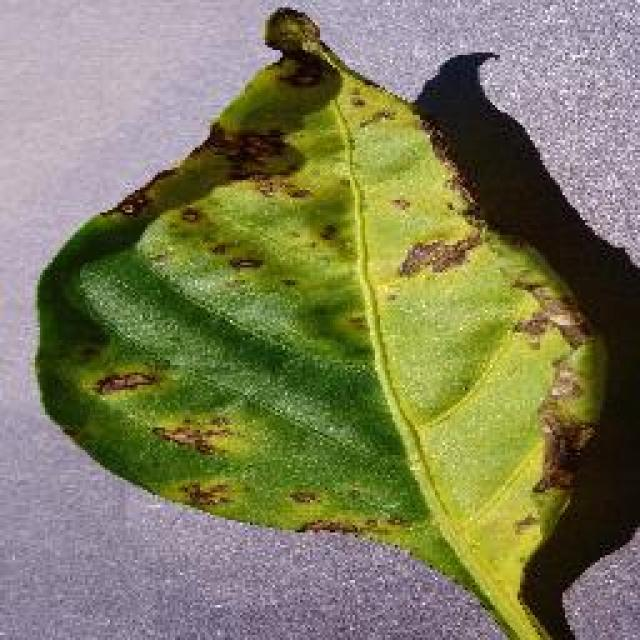Chilli_Bacterial_Spot: (30, 2, 610, 638), (145, 408, 247, 512), (505, 273, 590, 355), (205, 120, 305, 182), (392, 228, 482, 282), (148, 410, 238, 460), (257, 2, 325, 60), (172, 475, 238, 513), (90, 365, 160, 400), (250, 170, 315, 205), (275, 52, 325, 90), (112, 188, 150, 220), (225, 247, 265, 275), (508, 508, 542, 540), (282, 485, 322, 507), (385, 190, 415, 218), (175, 202, 205, 228)
